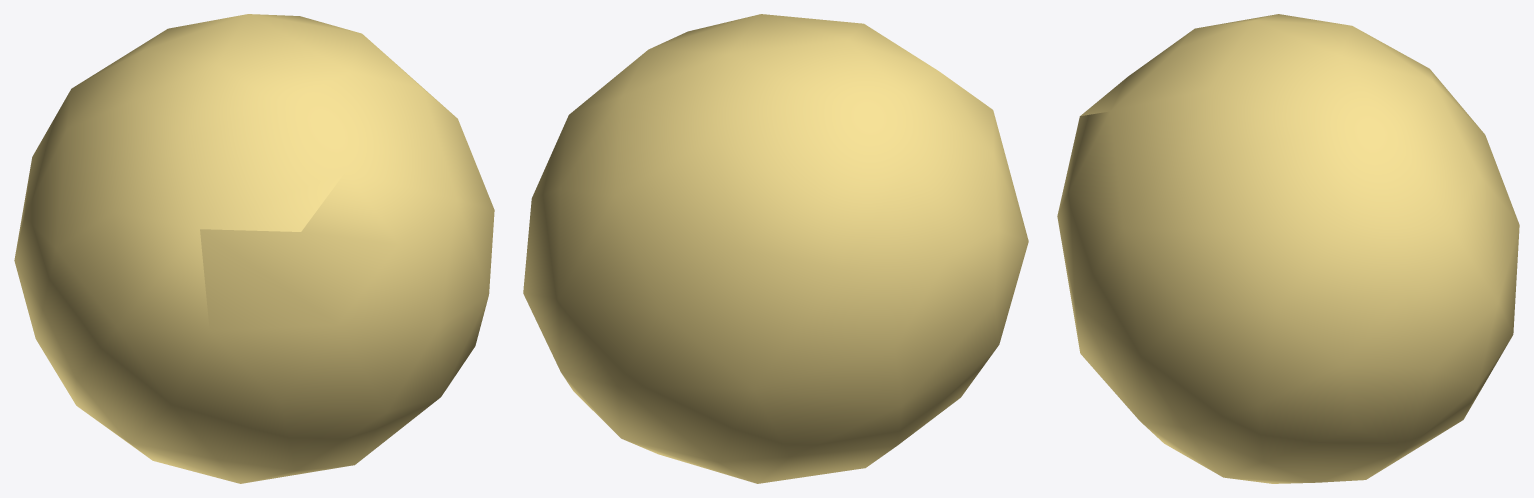
File: fma73595_mm2662.glb
3 views of the same model, side by side, from view 1: azimuth 30°, elevation 25°; view 2: azimuth 150°, elevation 25°; view 3: azimuth 270°, elevation 25° (orthographic). The views are drawn at different scales.
Visible parts, largest first — view 1: FMA73595_MM2662; view 2: FMA73595_MM2662; view 3: FMA73595_MM2662.
Boxes of the visible parts, <box> form: FMA73595_MM2662: <box>14,14,494,483</box>; FMA73595_MM2662: <box>523,14,1028,483</box>; FMA73595_MM2662: <box>1057,14,1519,483</box>.
Size of the model in its own units: 0.00129 by 0.00123 by 0.00124.
